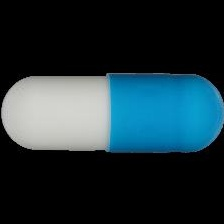42291-107: (0, 0, 224, 224)
